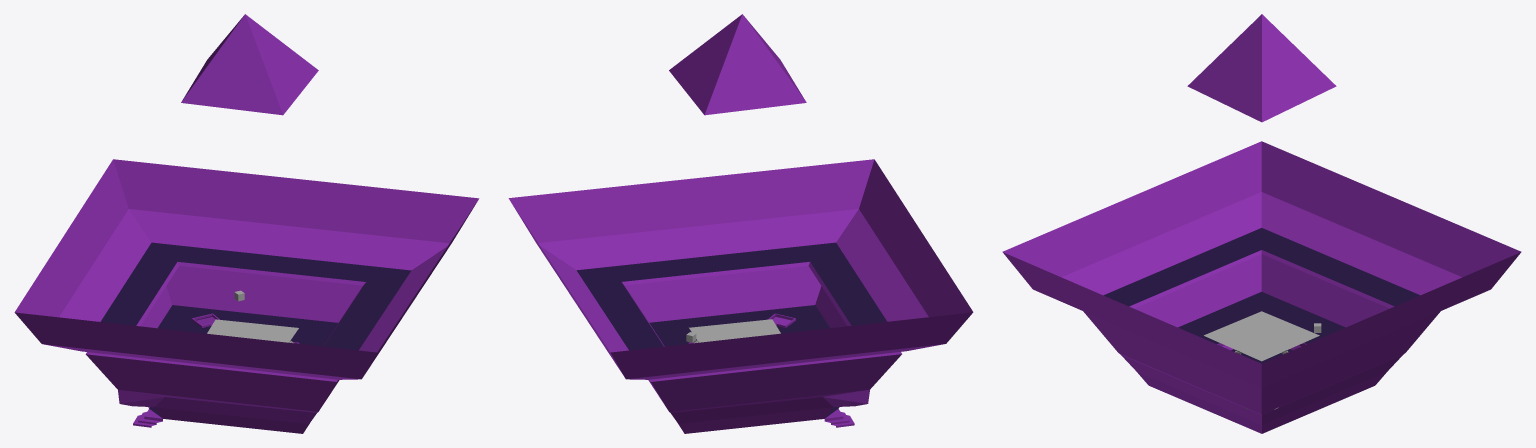
The model's file is OctahedronScene001.fbx.
3 renders of one model, left to right at view 1: azimuth 30°, elevation 25°; view 2: azimuth 150°, elevation 25°; view 3: azimuth 270°, elevation 25°, orthographic.
Parts seen in each view (by area): view 1: polySurface224, polySurface221, polySurface108; view 2: polySurface224, polySurface221, polySurface108; view 3: polySurface224, polySurface221, polySurface108.
Boxes of the visible parts, bbox=[...] form: polySurface224: bbox=[14, 159, 479, 433]; polySurface221: bbox=[181, 14, 318, 115]; polySurface108: bbox=[207, 319, 298, 342]; polySurface224: bbox=[508, 159, 973, 433]; polySurface221: bbox=[669, 14, 806, 115]; polySurface108: bbox=[689, 319, 780, 342]; polySurface224: bbox=[1002, 141, 1521, 433]; polySurface221: bbox=[1187, 14, 1336, 122]; polySurface108: bbox=[1204, 311, 1319, 361].
Bounding box in the file's own units: 969 × 765 × 954.
